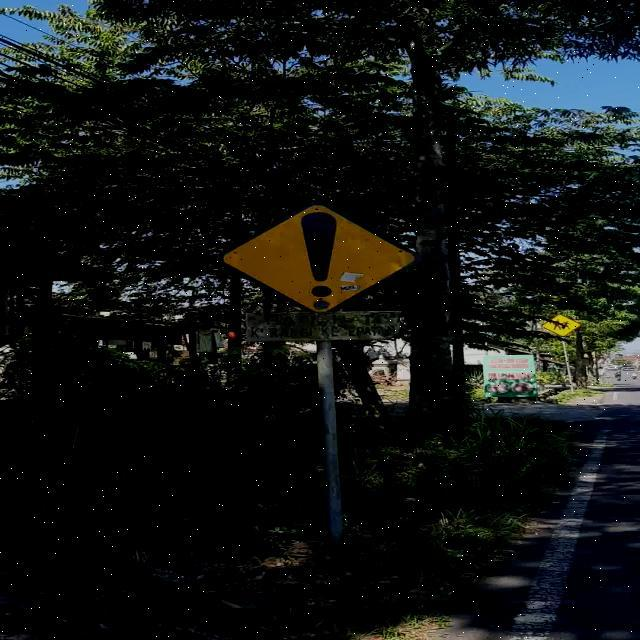Hati-Hati: (216, 201, 422, 311)
